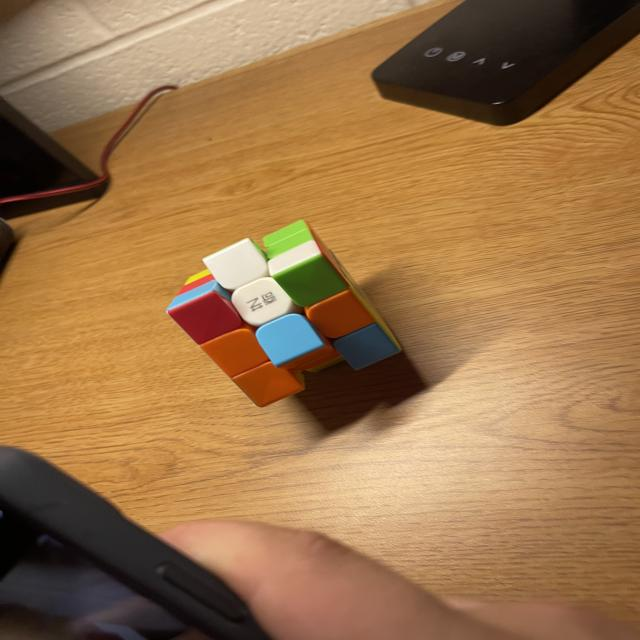Rubiks Cube: (167, 220, 402, 409)
